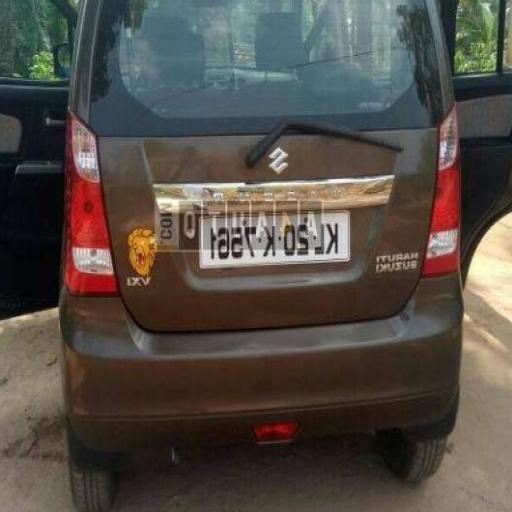License: (199, 210, 353, 262)
